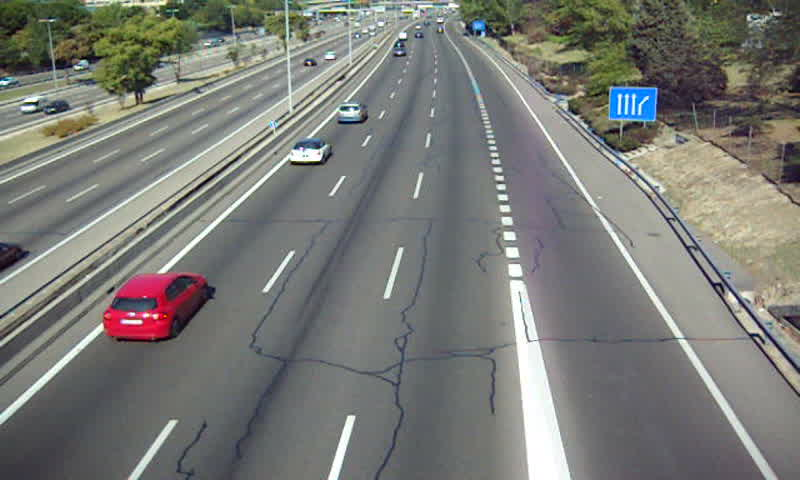car: (104, 272, 207, 341), (289, 140, 330, 164), (336, 102, 368, 123)
